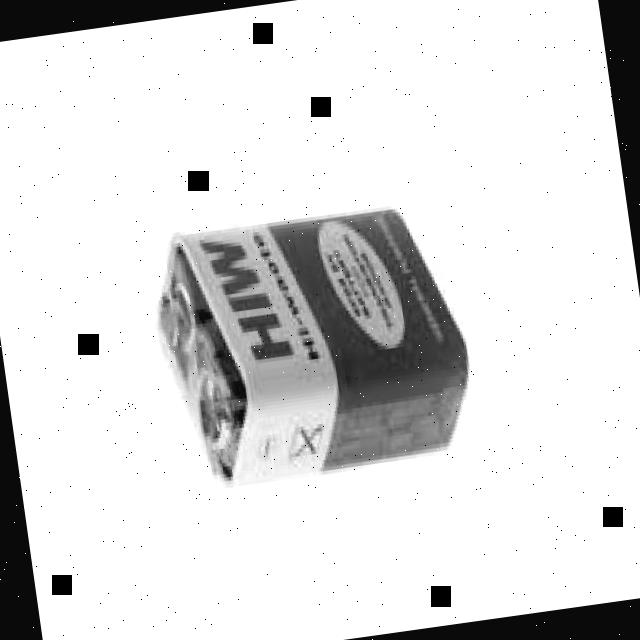battery: (156, 208, 468, 489)
